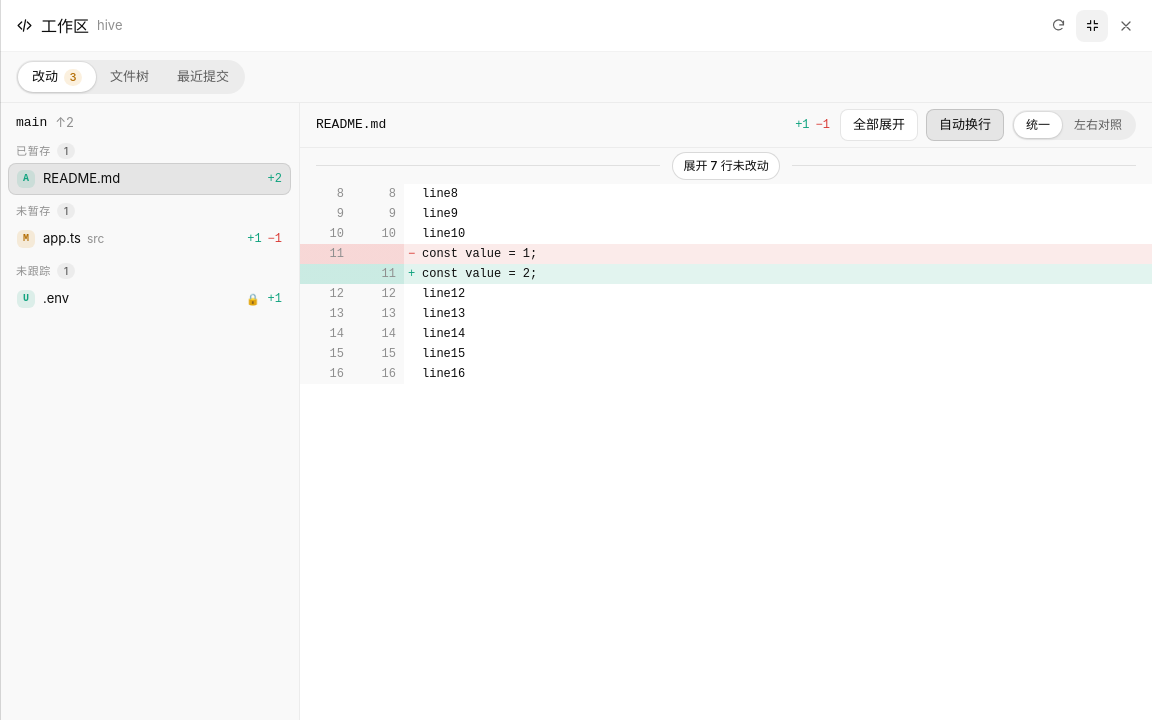
it: WorkspacePanel › 自动换行：文本文件默认换行、代码默认不换行，两类分别记住；左右对照固定换行
The width and height of the screenshot is (1152, 720).
Later steps or results of the test are not shown.
Click the button "自动换行".
click(965, 125)  # box 926,109 -> 1004,140
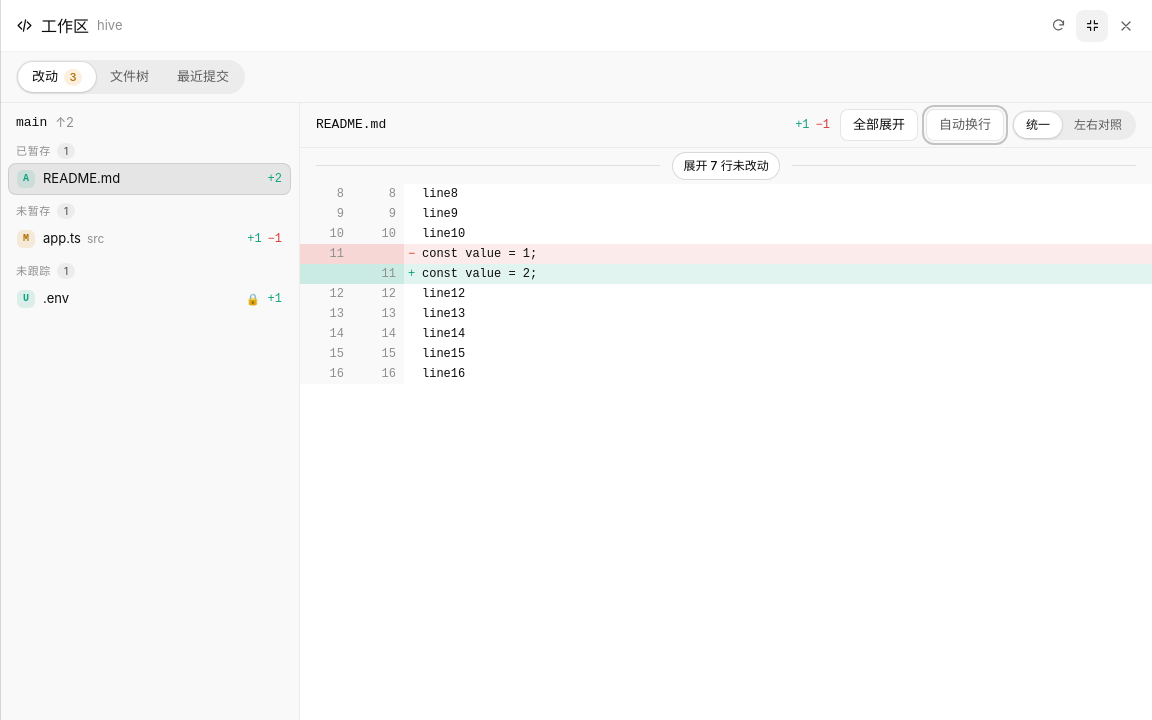
Result: the button "自动换行" is not pressed at 926,109 -> 1004,140
代码文件按自己的默认值：不换行
Click the button "M app.ts src +1 −1".
click(62, 238)  # box 8,223 -> 291,254
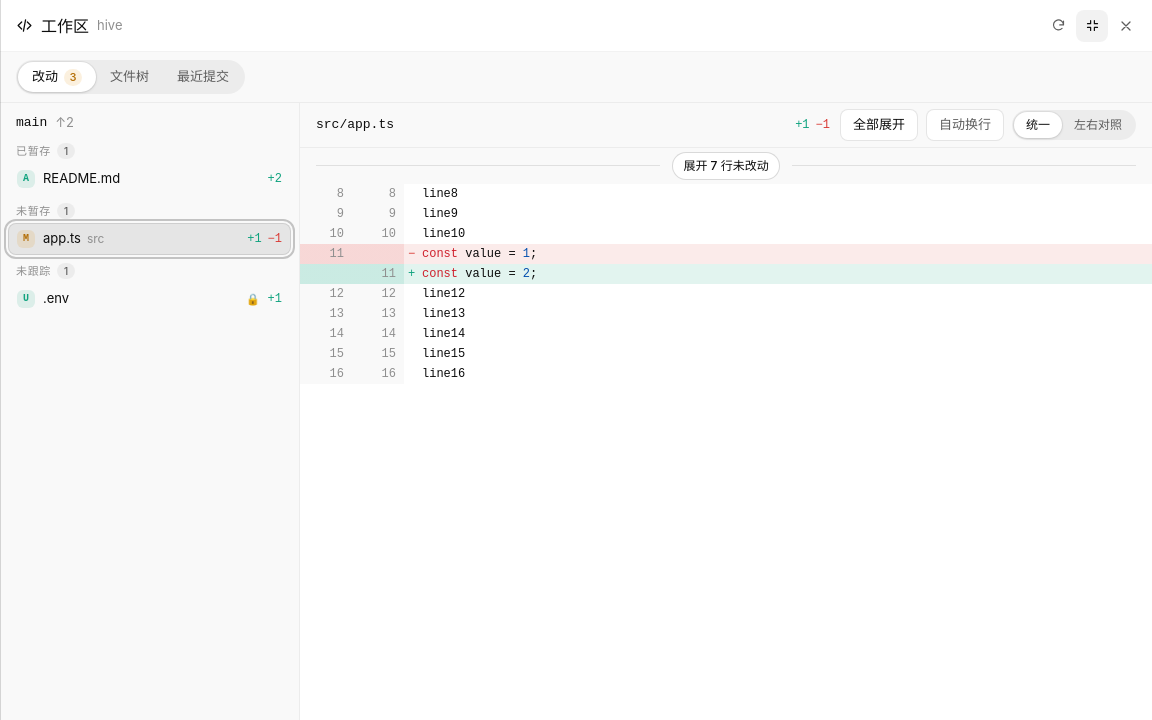
Result: the table named "src/app.ts 的改动" does not have class "wrap" at 300,148 -> 1151,384
Click the button "自动换行".
click(965, 125)  # box 926,109 -> 1004,140
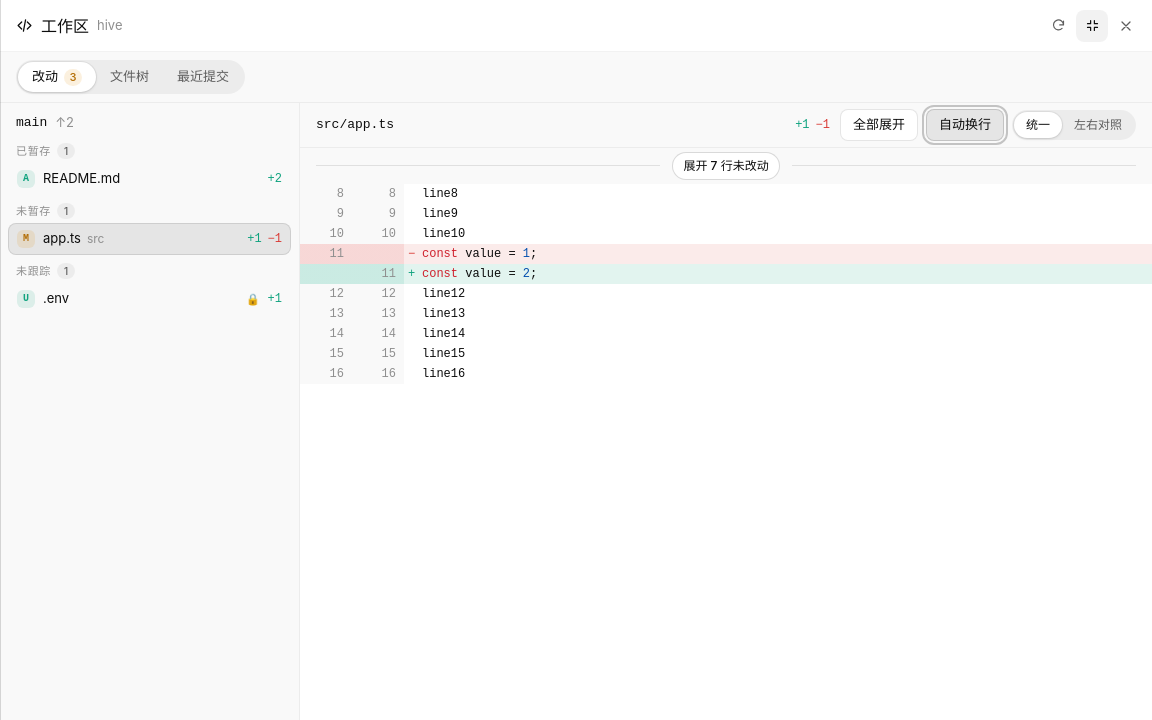
Click the button "自动换行".
click(965, 125)  # box 926,109 -> 1004,140
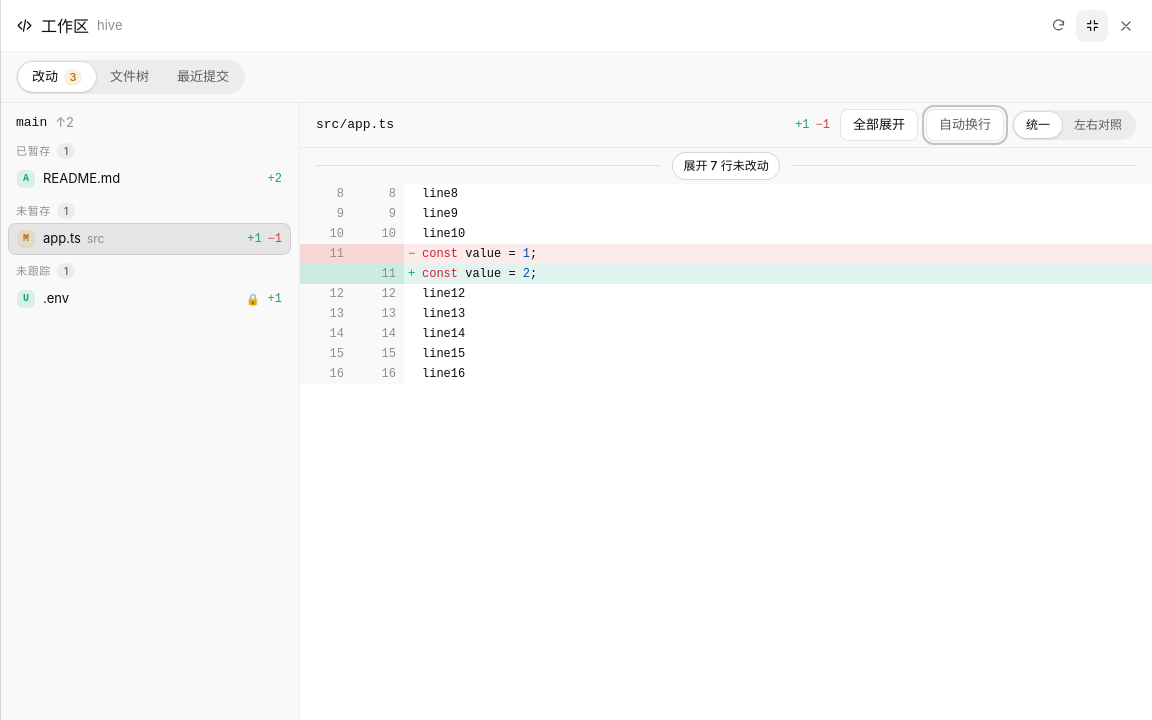
左右对照两边各占一半，总是换行，开关锁住
Click the radio button labelled "左右对照".
click(1098, 125)  # box 1062,112 -> 1134,138
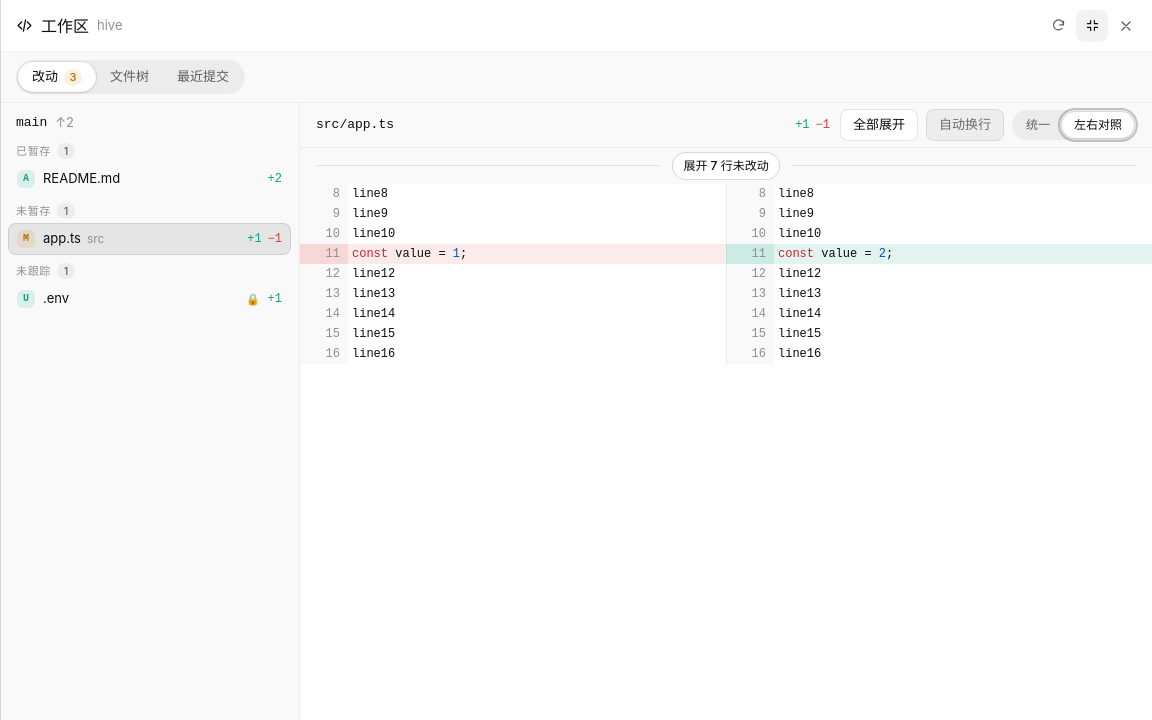
Result: the table named "src/app.ts 的改动" has class "wrap" at 300,148 -> 1151,364
